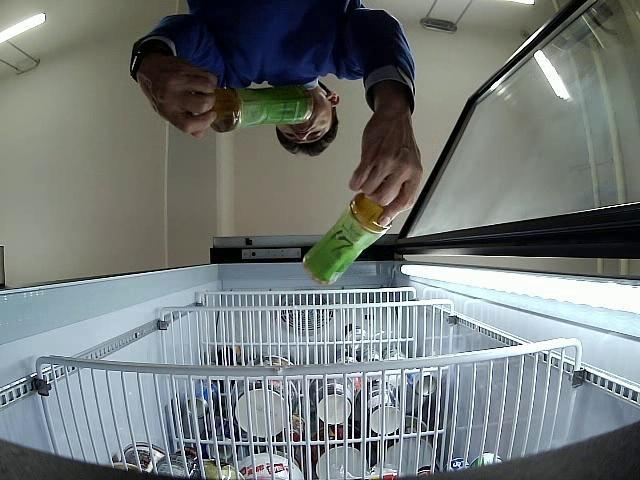19_17cha: (302, 194, 395, 286), (216, 82, 318, 132)
